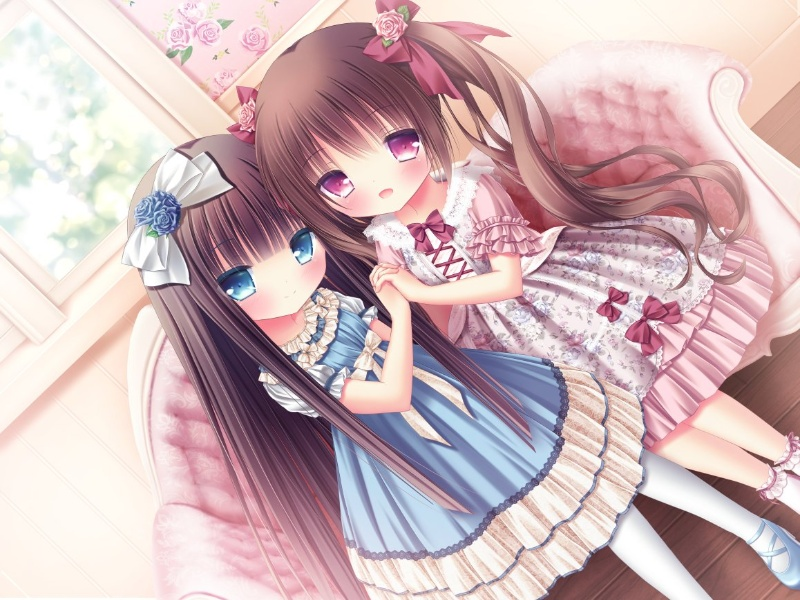person: (288, 106, 439, 227), (200, 218, 342, 332)
